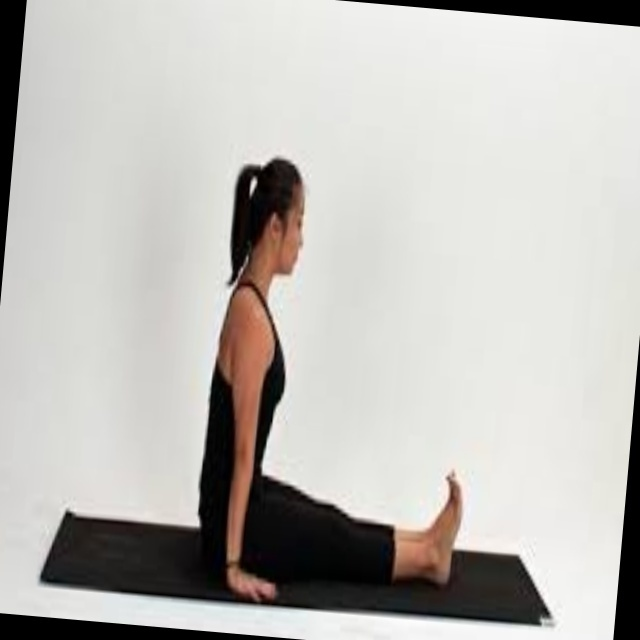Staff_Pose: (196, 158, 462, 603)
